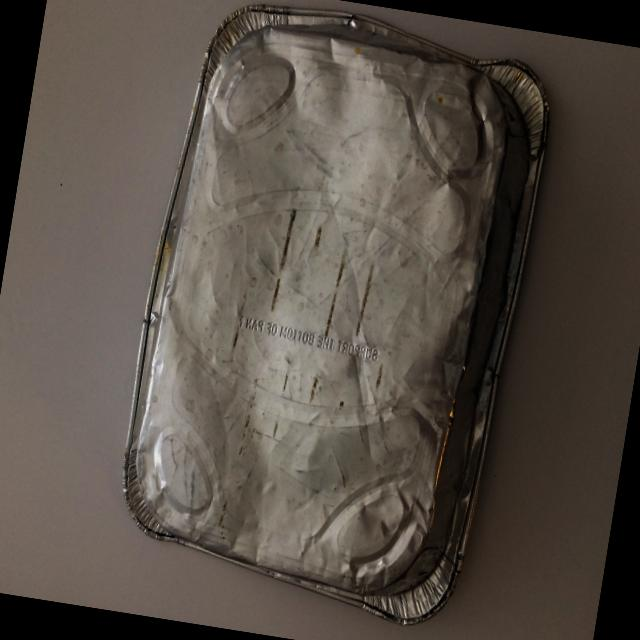Metal: (77, 0, 590, 640)
